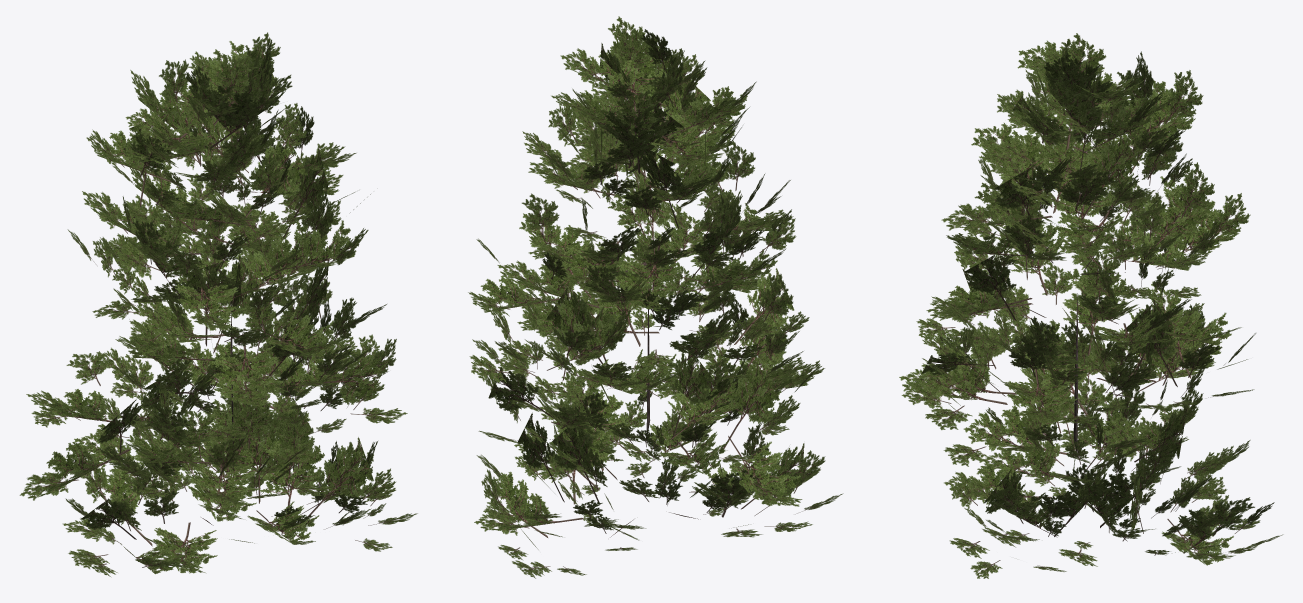
File: fir_0_lod1.glb
The picture shows the model from 3 angles, left to right: view 1: azimuth 30°, elevation 25°; view 2: azimuth 150°, elevation 25°; view 3: azimuth 270°, elevation 25°; orthographic projection. The views are drawn at different scales.
Parts seen in each view (by area): view 1: NobleFirTree; view 2: NobleFirTree; view 3: NobleFirTree.
Part boxes in pixels (<box>): NobleFirTree: <box>19,32,417,577</box>; NobleFirTree: <box>468,16,843,578</box>; NobleFirTree: <box>899,33,1283,578</box>.
Bounding box in the file's own units: 5.27 × 7.02 × 5.05.
Materials: 2 (2 with a texture image).
